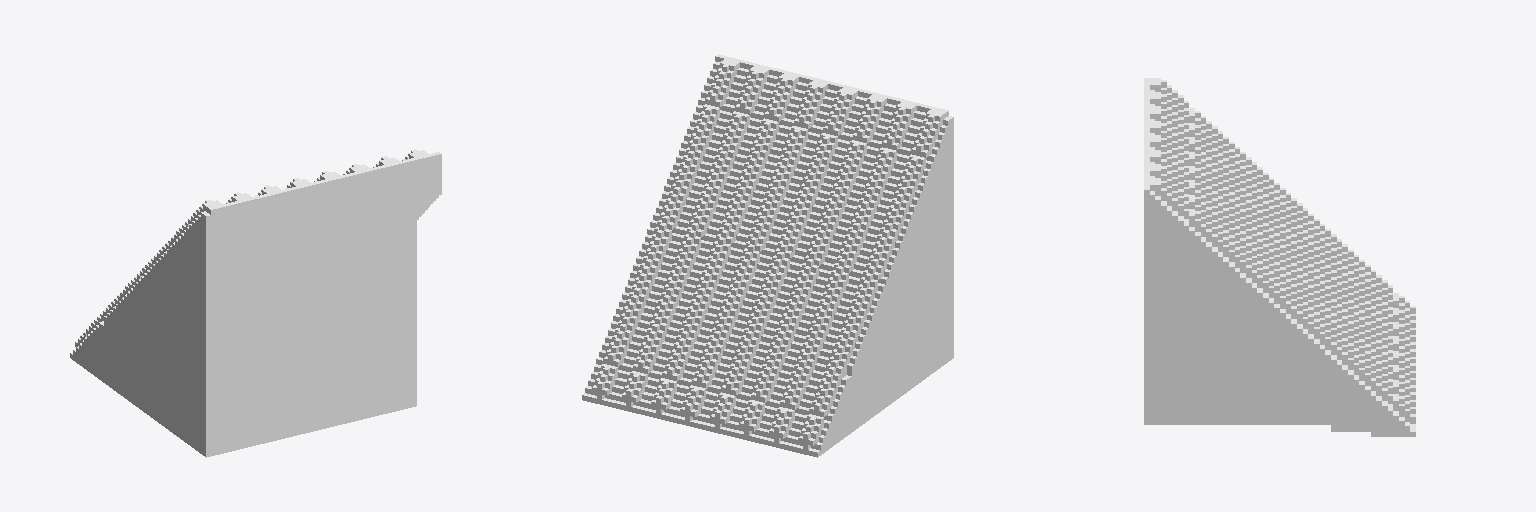
The model's file is viridian-house-2-38.obj.
3 renders of one model, left to right at view 1: azimuth 30°, elevation 25°; view 2: azimuth 150°, elevation 25°; view 3: azimuth 270°, elevation 25°, orthographic.
Parts seen in each view (by area): view 1: object 1; view 2: object 1; view 3: object 1.
Boxes of the visible parts, box(x1,y1,x2,y2) form: object 1: box(70, 149, 441, 457); object 1: box(582, 54, 953, 457); object 1: box(1144, 78, 1415, 436).
Size of the model in its own units: 4.8 by 4.8 by 4.8.